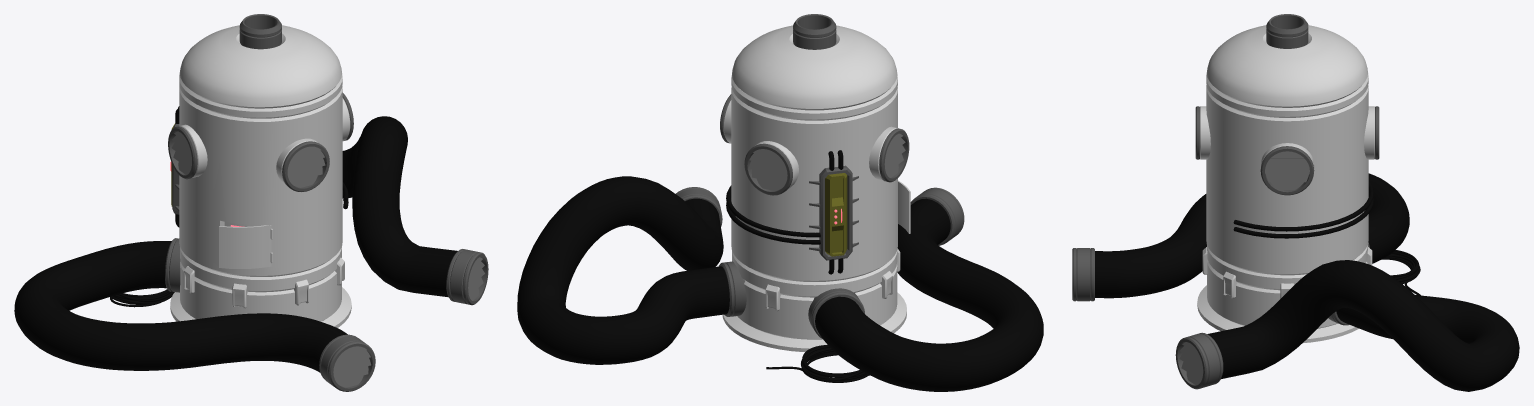
The model's file is misc 2.fbx.
The picture shows the model from 3 angles, left to right: view 1: azimuth 30°, elevation 25°; view 2: azimuth 150°, elevation 25°; view 3: azimuth 270°, elevation 25°; orthographic projection. The views are drawn at different scales.
Visible parts, largest first — view 1: Desirefx.me_CyberProp_Tank_Brass, Desirefx.me_CyberProp_Tank_Rubber, Desirefx.me_CyberProp_Tank_PaintBlack, Desirefx.me_CyberProp_Tank_RedWhiteStripes; view 2: Desirefx.me_CyberProp_Tank_Rubber, Desirefx.me_CyberProp_Tank_Brass, Desirefx.me_CyberProp_Tank_PaintBlack, Desirefx.me_CyberProp_Tank_RedWhiteStripes, Desirefx.me_CyberProp_Tank_PlasticYellow; view 3: Desirefx.me_CyberProp_Tank_Brass, Desirefx.me_CyberProp_Tank_Rubber, Desirefx.me_CyberProp_Tank_PaintBlack, Desirefx.me_CyberProp_Tank_RedWhiteStripes.
Part boxes in pixels (x1,y1,x2,y2): Desirefx.me_CyberProp_Tank_Brass: [170, 25, 351, 327]; Desirefx.me_CyberProp_Tank_Rubber: [14, 106, 457, 372]; Desirefx.me_CyberProp_Tank_PaintBlack: [165, 14, 488, 391]; Desirefx.me_CyberProp_Tank_RedWhiteStripes: [179, 73, 342, 292]; Desirefx.me_CyberProp_Tank_Rubber: [517, 150, 1043, 391]; Desirefx.me_CyberProp_Tank_Brass: [722, 25, 910, 351]; Desirefx.me_CyberProp_Tank_PaintBlack: [676, 14, 964, 338]; Desirefx.me_CyberProp_Tank_RedWhiteStripes: [731, 74, 897, 297]; Desirefx.me_CyberProp_Tank_PlasticYellow: [825, 173, 847, 256]; Desirefx.me_CyberProp_Tank_Brass: [1197, 25, 1374, 342]; Desirefx.me_CyberProp_Tank_Rubber: [1095, 173, 1519, 391]; Desirefx.me_CyberProp_Tank_PaintBlack: [1072, 14, 1379, 389]; Desirefx.me_CyberProp_Tank_RedWhiteStripes: [1206, 72, 1368, 290].
Size of the model in its own units: 8.04 by 5.16 by 7.33.
